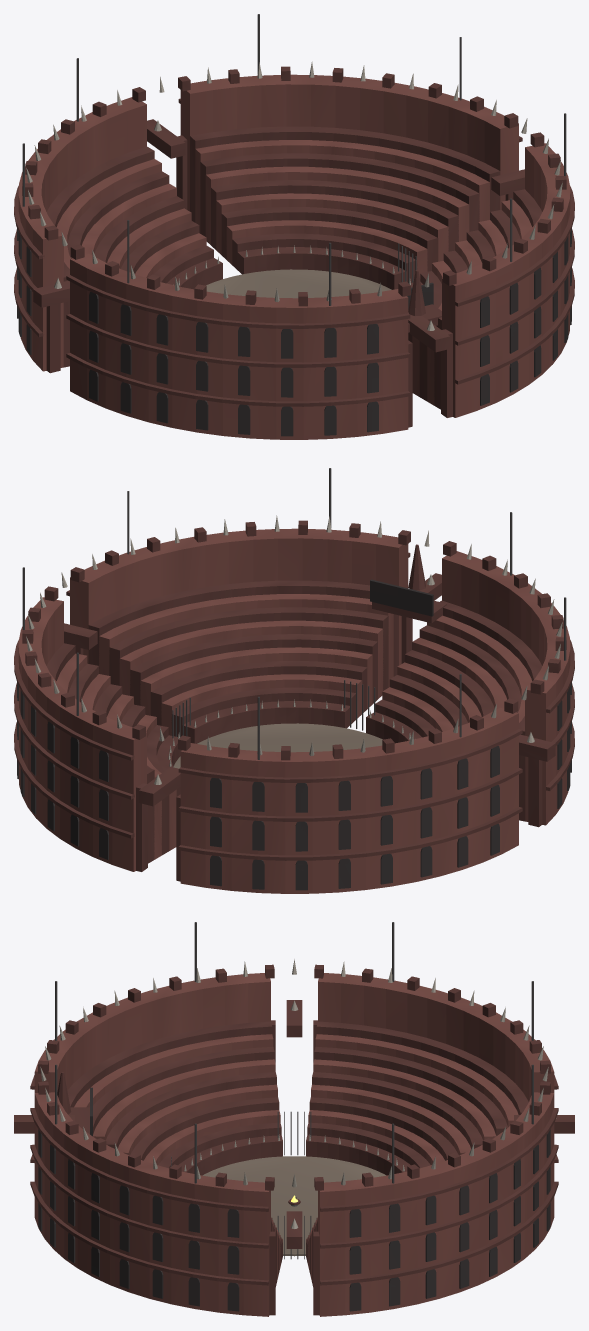
File: Coliseu.glb
The picture shows the model from 3 angles, top to bottom: view 1: azimuth 30°, elevation 25°; view 2: azimuth 150°, elevation 25°; view 3: azimuth 270°, elevation 25°; orthographic projection. The views are drawn at different scales.
Parts seen in each view (by area): view 1: Coliseu; view 2: Coliseu; view 3: Coliseu.
Boxes of the visible parts, left/top/right/bottom form: Coliseu: left=14, top=14, right=574, bottom=439; Coliseu: left=14, top=468, right=574, bottom=893; Coliseu: left=14, top=922, right=574, bottom=1316.
Size of the model in its own units: 77.4 by 32.06 by 77.4.
